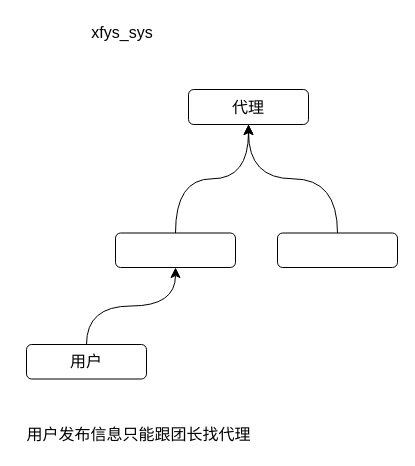
Some shapes in this 415 by 466 pixel diagram are drawn without their labels. Here are the shapes that lost their labels. From the top down, the box of each, then its label:
(114, 232, 236, 268): 团长
(276, 232, 398, 268): 供应商
